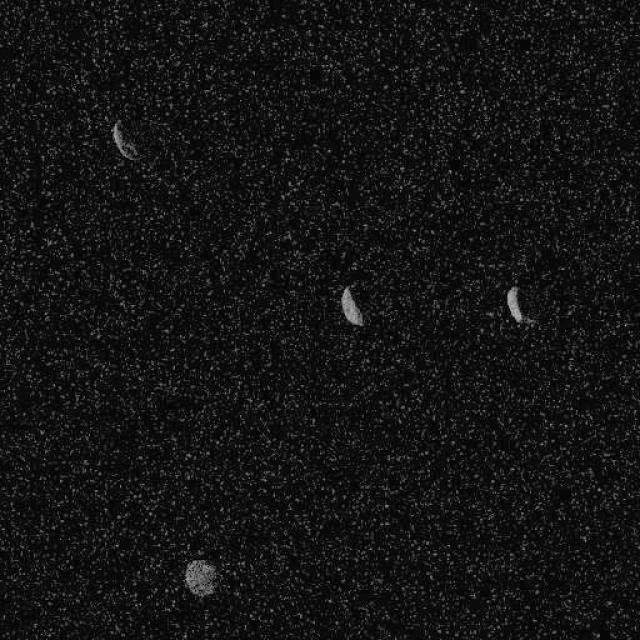D2: (182, 558, 216, 598), (110, 119, 140, 161), (340, 284, 364, 326), (505, 285, 525, 323)
